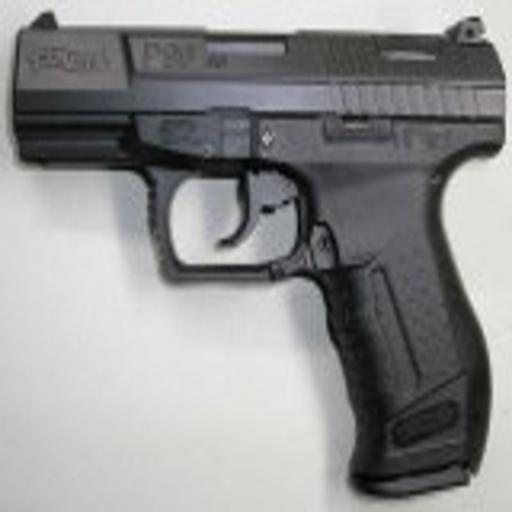Handgun: (8, 7, 504, 498)
